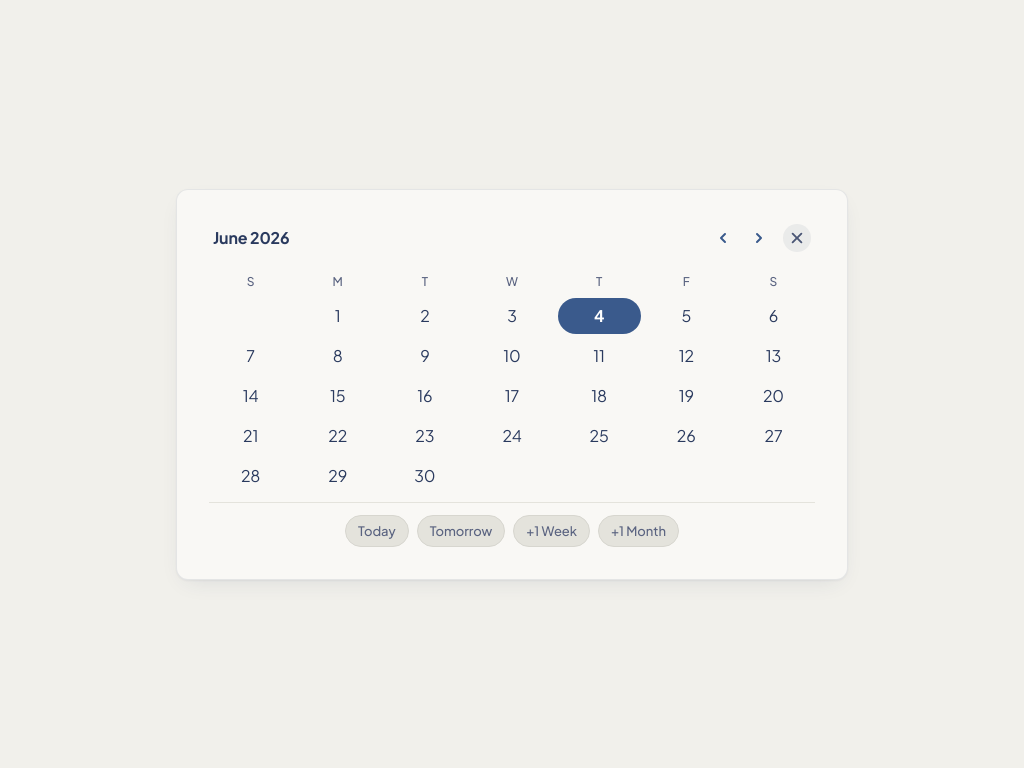
Test: DatePickerCallout › navigates to previous month
Click the button named "Previous month" at (723, 238), box [707, 222, 739, 254]
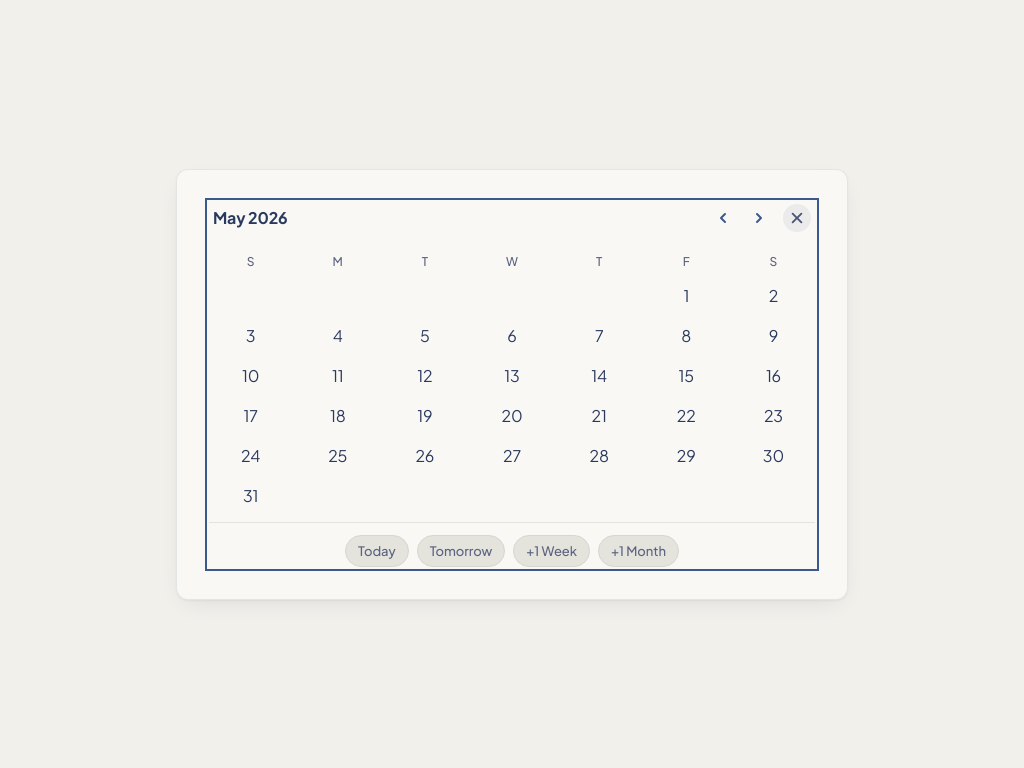
Expected: the text "May 2026" is shown, [213, 207, 288, 228]
